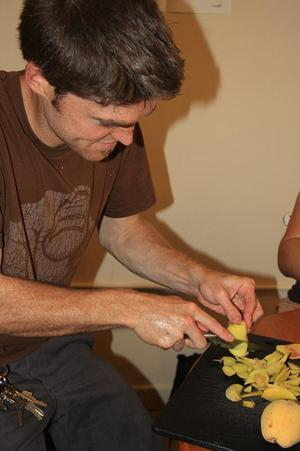person: (2, 1, 264, 450)
